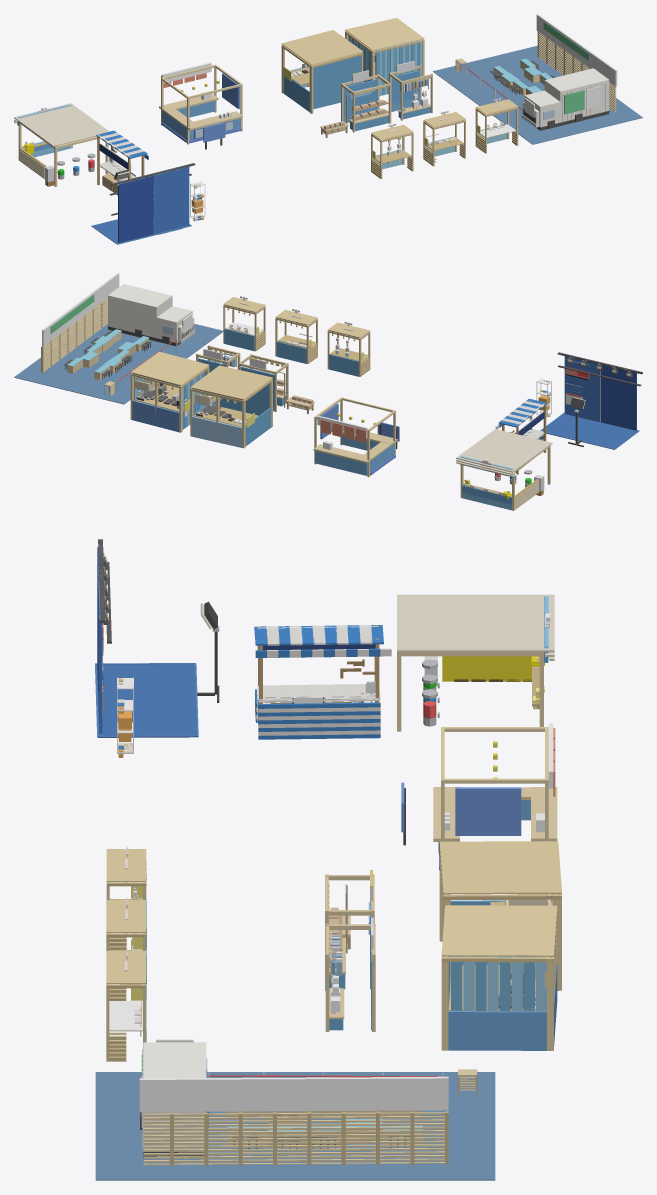
File: dongmun_market.glb
3 views of the same model, one above another, from view 1: azimuth 30°, elevation 25°; view 2: azimuth 150°, elevation 25°; view 3: azimuth 270°, elevation 25° (orthographic). The views are drawn at different scales.
Visible parts, largest first — view 1: Geom3D (×26); view 2: Geom3D (×27); view 3: Geom3D (×28).
Part boxes in pixels (x1,y1,x2,y2): Geom3D (×26): [14, 14, 642, 244]; Geom3D (×27): [14, 273, 639, 509]; Geom3D (×28): [95, 594, 561, 1180].
Size of the model in its own units: 65.84 by 7.88 by 25.15.
